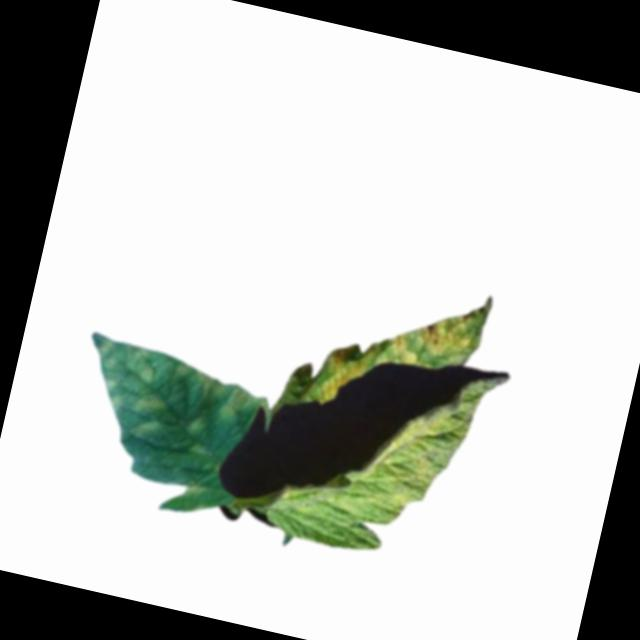Leaf_Mold: (72, 333, 257, 463), (311, 328, 383, 411), (412, 297, 482, 364), (388, 328, 419, 365)
